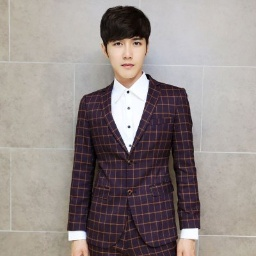face: (101, 5, 152, 81)
